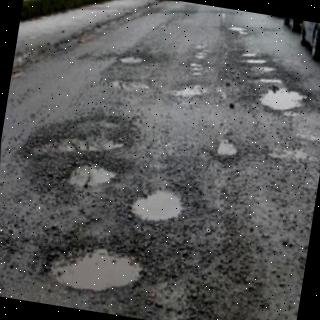pothole: (50, 249, 142, 293), (36, 131, 124, 155), (131, 189, 184, 223), (66, 164, 116, 188), (262, 89, 303, 111), (217, 140, 238, 158)
